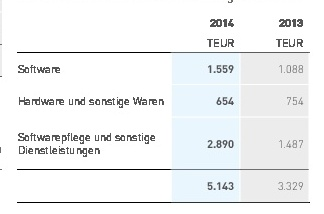table: (0, 0, 324, 214)
